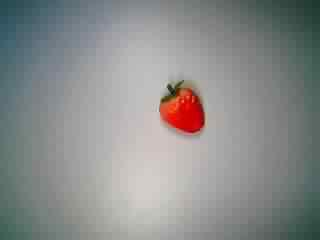strawberry: (151, 72, 217, 138)
